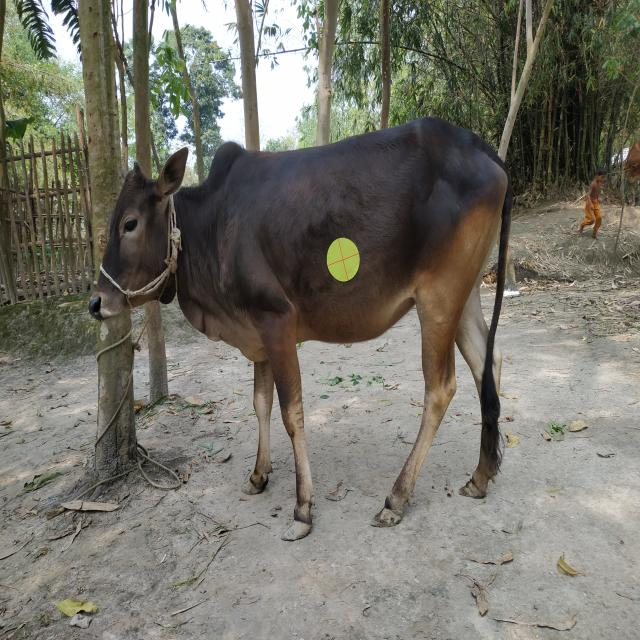badan_sapi: (213, 137, 503, 340)
sapi: (75, 108, 562, 556)
